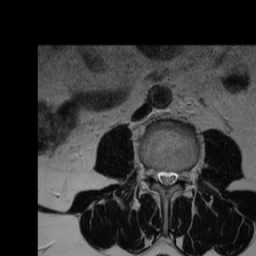CCS_stenosis: (164, 161, 171, 196)
LFS_normal: (179, 161, 187, 189)
LLS_normal: (171, 161, 179, 191)
RFS_normal: (148, 158, 156, 185)
RLS_normal: (156, 162, 164, 189)
